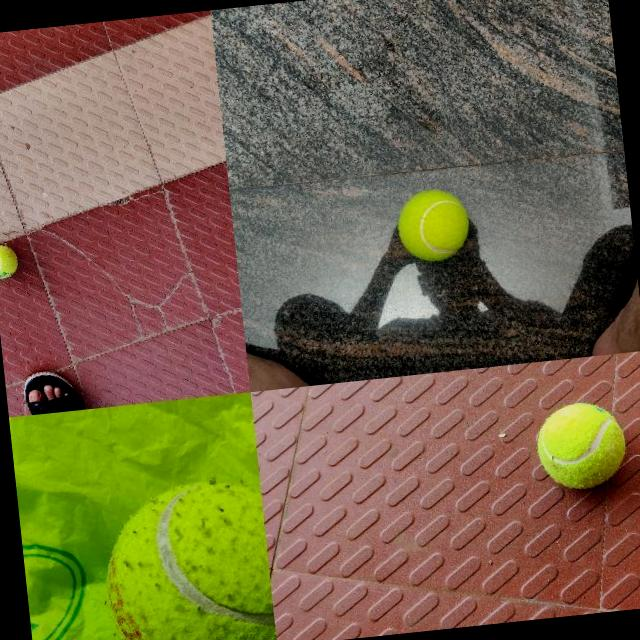Tennis Ball: (92, 474, 275, 640), (534, 399, 628, 493), (394, 185, 471, 264), (0, 242, 19, 279)
